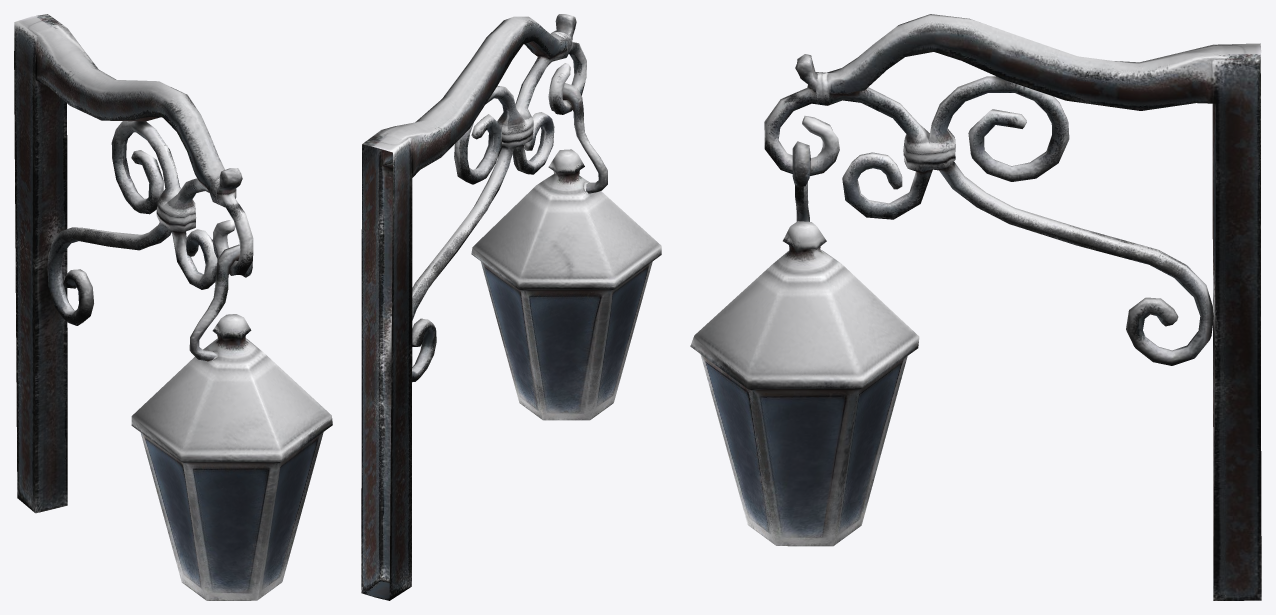
The model's file is Wall Street Light.FBX.
3 views of the same model, side by side, from view 1: azimuth 30°, elevation 25°; view 2: azimuth 150°, elevation 25°; view 3: azimuth 270°, elevation 25° (orthographic). The views are drawn at different scales.
Parts seen in each view (by area): view 1: Wall Street Light; view 2: Wall Street Light; view 3: Wall Street Light.
Boxes of the visible parts, x1,y1,x2,y2 form: Wall Street Light: (14, 14, 332, 600); Wall Street Light: (361, 14, 661, 600); Wall Street Light: (690, 14, 1261, 600).
Size of the model in its own units: 3956 by 12711 by 11395.
1 material, 1 textured.
